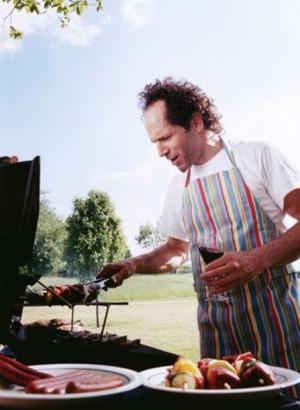person: (96, 79, 300, 404)
